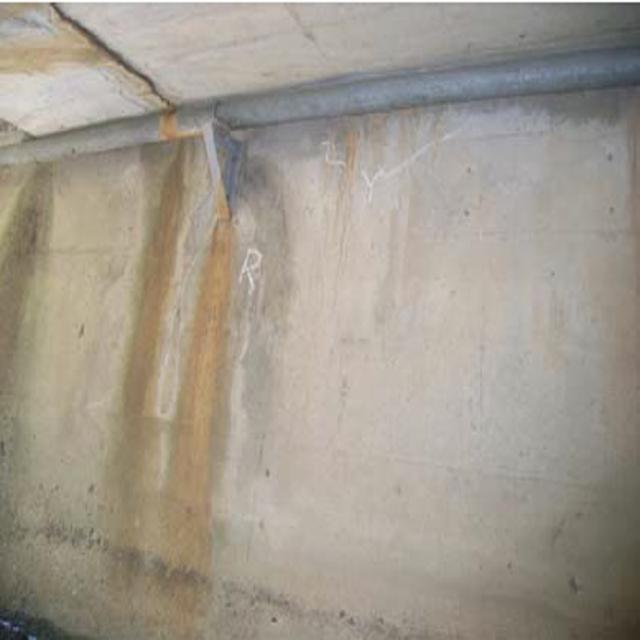leakage: (126, 124, 261, 636), (7, 158, 73, 372)
